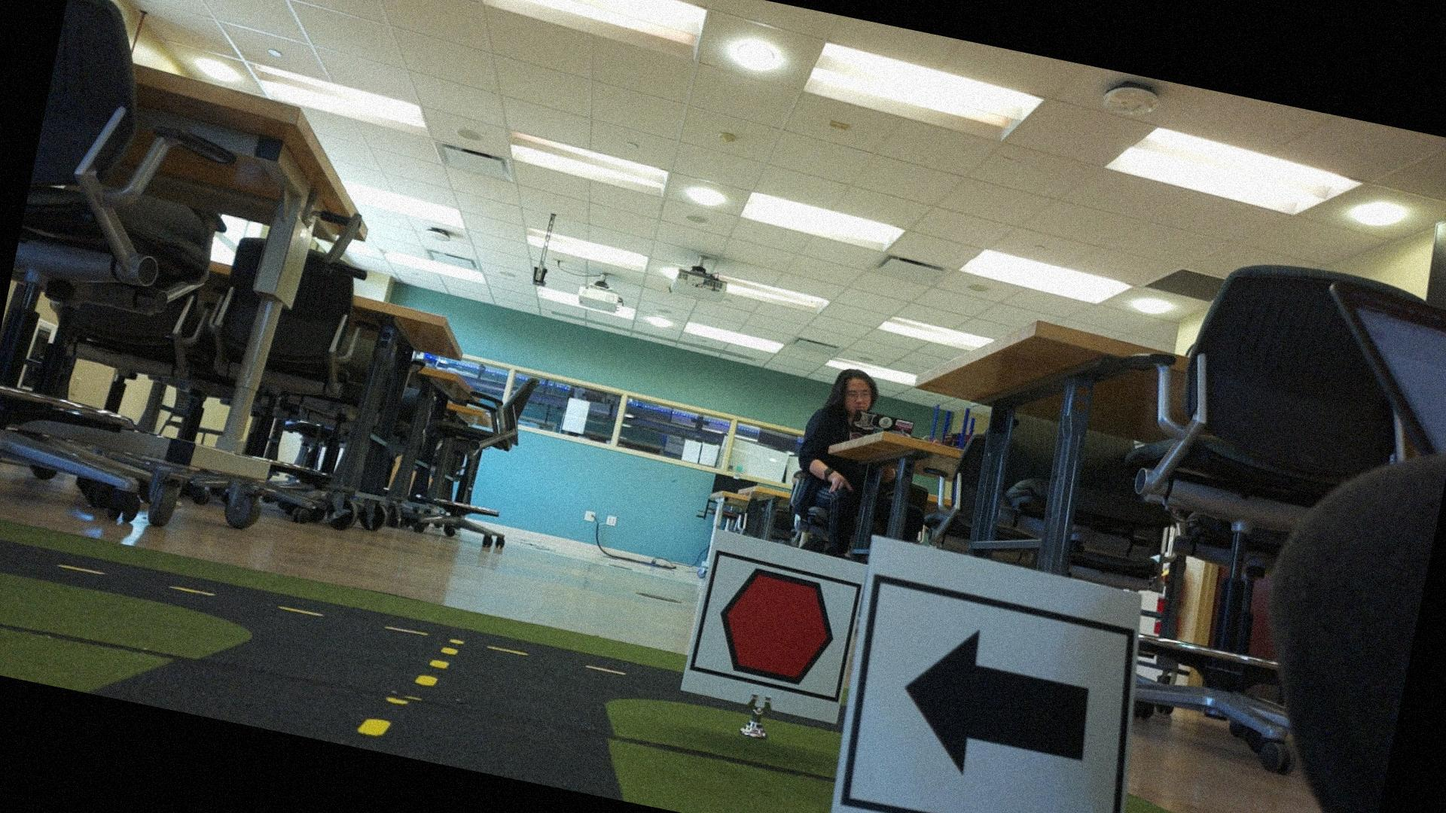stop: (691, 553, 859, 698)
turnright: (837, 580, 1136, 812)
yellowline: (354, 631, 459, 754)
